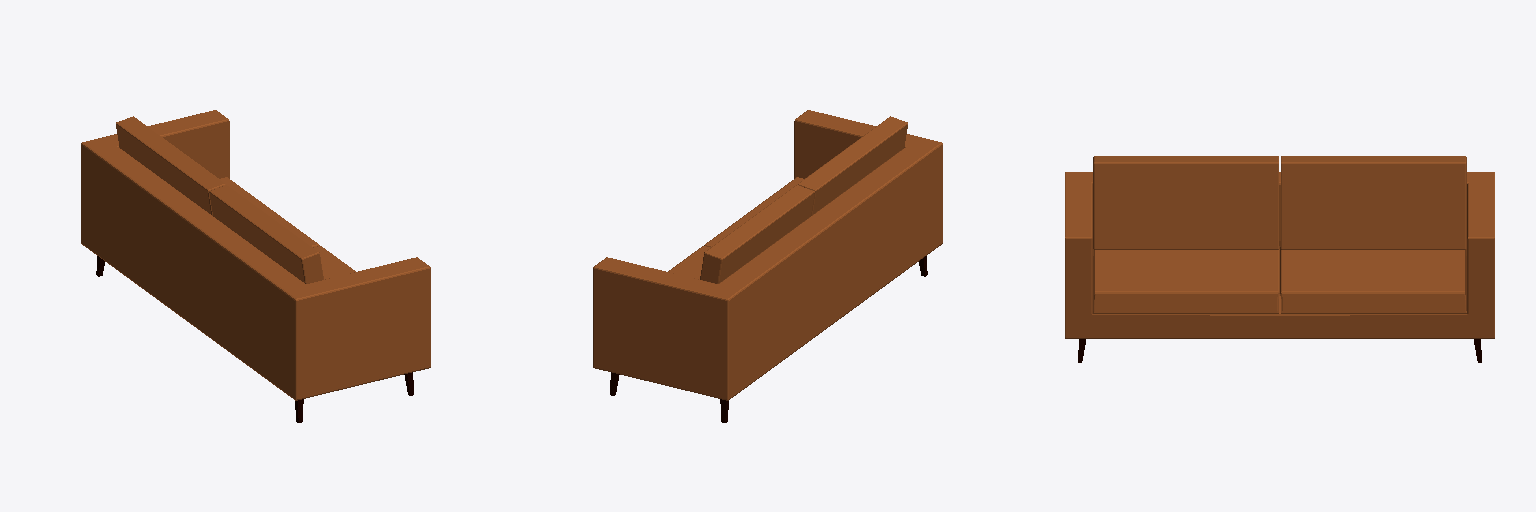
The model's file is Sofa.obj.
3 renders of one model, left to right at view 1: azimuth 30°, elevation 25°; view 2: azimuth 150°, elevation 25°; view 3: azimuth 270°, elevation 25°, orthographic.
Parts seen in each view (by area): view 1: Frame_Cube.006, UpperPillows_Cube.002_Cube.003, LowerPillows_Cube.005_Cube.001; view 2: Frame_Cube.006, UpperPillows_Cube.002_Cube.003, LowerPillows_Cube.005_Cube.001; view 3: UpperPillows_Cube.002_Cube.003, LowerPillows_Cube.005_Cube.001, Frame_Cube.006.
Boxes of the visible parts, box(x1,y1,x2,y2) form: Frame_Cube.006: box(81, 110, 430, 400); UpperPillows_Cube.002_Cube.003: box(116, 116, 323, 283); LowerPillows_Cube.005_Cube.001: box(220, 177, 355, 279); Frame_Cube.006: box(593, 110, 942, 400); UpperPillows_Cube.002_Cube.003: box(700, 116, 907, 283); LowerPillows_Cube.005_Cube.001: box(668, 177, 803, 279); UpperPillows_Cube.002_Cube.003: box(1093, 156, 1466, 249); LowerPillows_Cube.005_Cube.001: box(1093, 249, 1466, 313); Frame_Cube.006: box(1065, 172, 1494, 338).
Bounding box in the file's own units: 3.86 × 4.29 × 10.58.